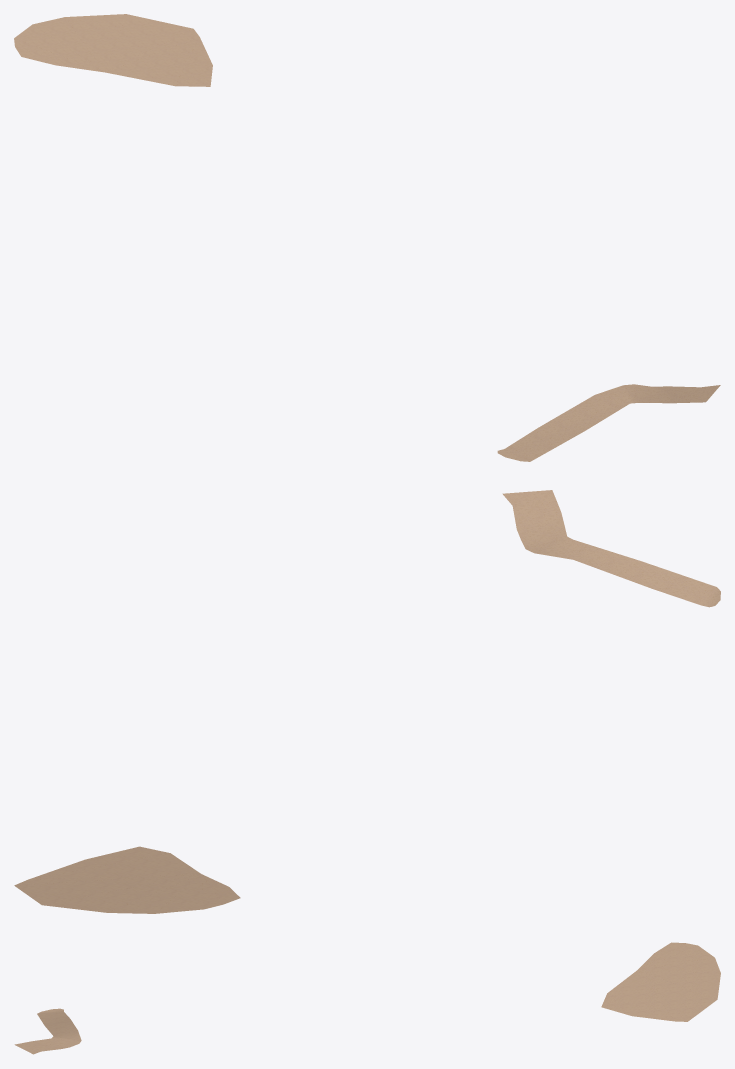
The model's file is kd_stage_135ebf_2_47.glb.
The picture shows the model from 3 angles, top to bottom: view 1: azimuth 30°, elevation 25°; view 2: azimuth 150°, elevation 25°; view 3: azimuth 270°, elevation 25°; orthographic projection. The views are drawn at different scales.
Parts seen in each view (by area): view 1: kd_stage_135ebf_2_47; view 2: kd_stage_135ebf_2_47; view 3: kd_stage_135ebf_2_47.
Boxes of the visible parts, box(x1,y1,x2,y2) form: kd_stage_135ebf_2_47: box(14, 14, 720, 461); kd_stage_135ebf_2_47: box(14, 490, 720, 913); kd_stage_135ebf_2_47: box(14, 942, 720, 1054).
Size of the model in its own units: 23.33 by 7.66 by 87.5.
1 material, 1 textured.
